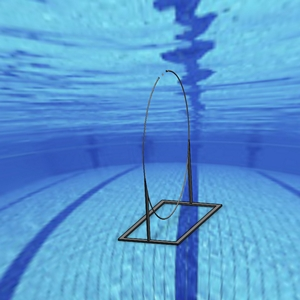circle: (117, 66, 222, 245)
